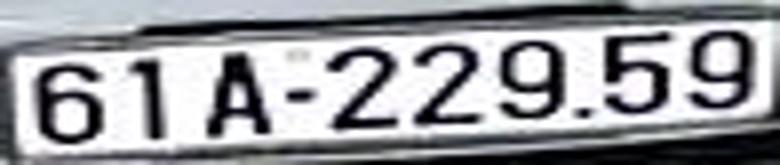-: (284, 87, 314, 102)
.: (571, 102, 593, 119)
1: (126, 58, 170, 139)
2: (326, 46, 397, 129), (411, 48, 481, 123)
5: (604, 32, 670, 114)
6: (32, 62, 104, 142)
9: (498, 41, 565, 119), (691, 31, 753, 110)
A: (201, 52, 270, 135)
